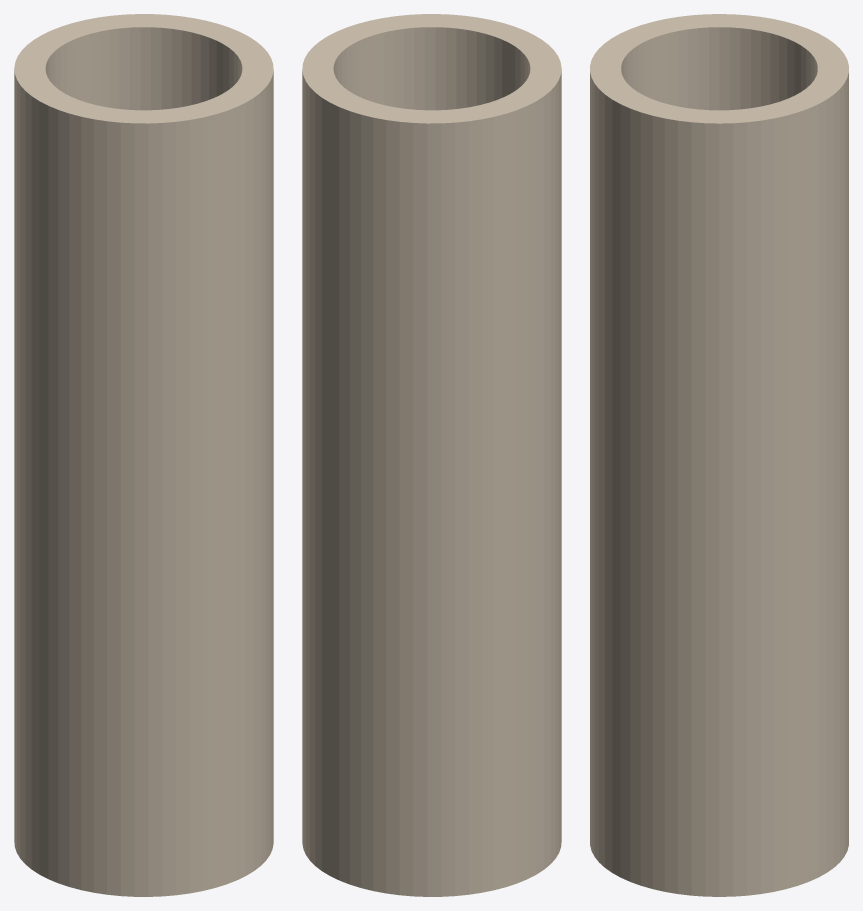
Rendered from tensioner-pivot-sleeve.glb.
3 views of the same model, side by side, from view 1: azimuth 30°, elevation 25°; view 2: azimuth 150°, elevation 25°; view 3: azimuth 270°, elevation 25° (orthographic).
Parts seen in each view (by area): view 1: world; view 2: world; view 3: world.
Part boxes in pixels (x1,y1,x2,y2): world: [14, 14, 273, 896]; world: [302, 14, 561, 896]; world: [590, 14, 848, 896].
Size of the model in its own units: 0.0158 by 0.052 by 0.0158.
